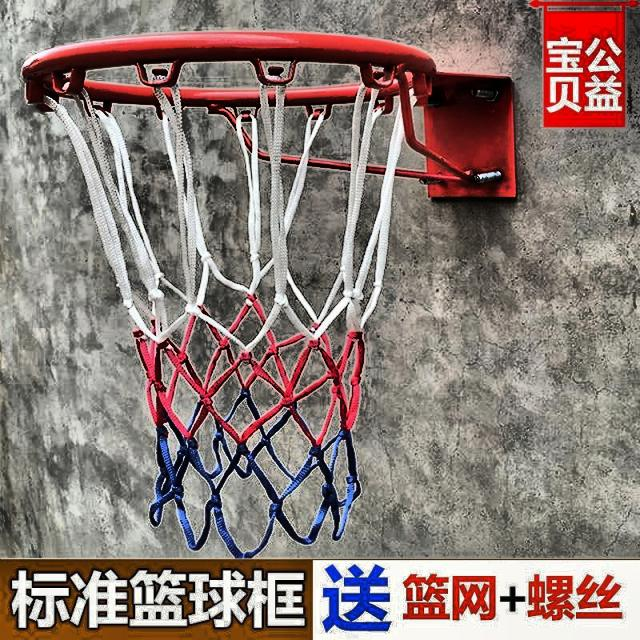rim: (24, 29, 430, 555)
